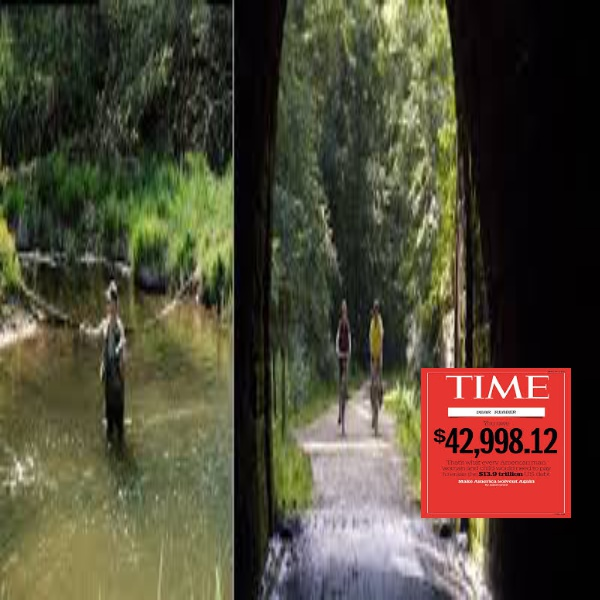time_cover: (418, 357, 580, 527)
